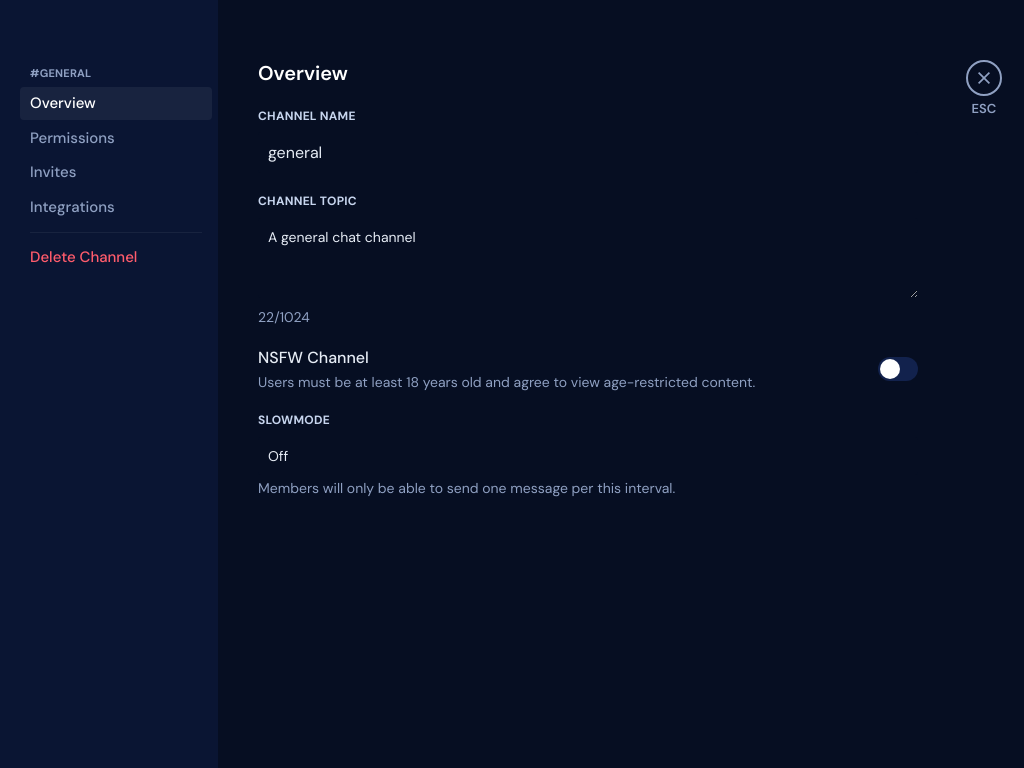
ChannelSettings › permissions editor › switches to Permissions tab and shows role list
The image size is (1024, 768).
Click the button "Permissions".
click(116, 138)  # box 20,122 -> 212,154
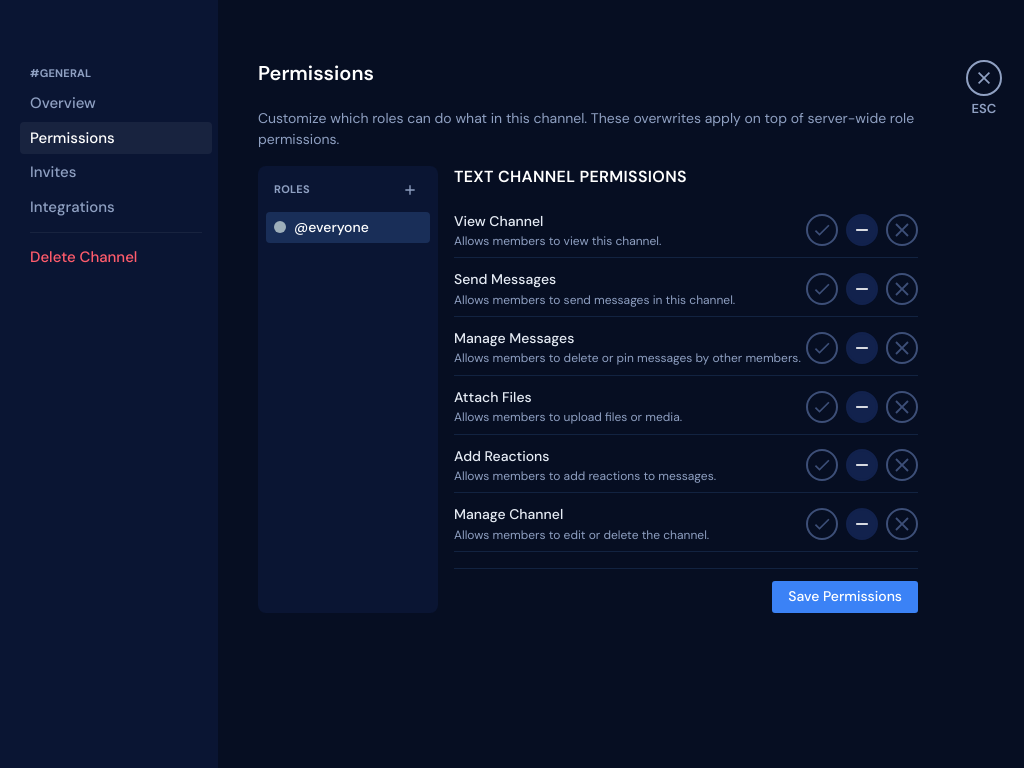
Result: the text "ROLES" is shown at 274,182 -> 310,197
Result: the text "@everyone" is shown at 294,218 -> 369,237
